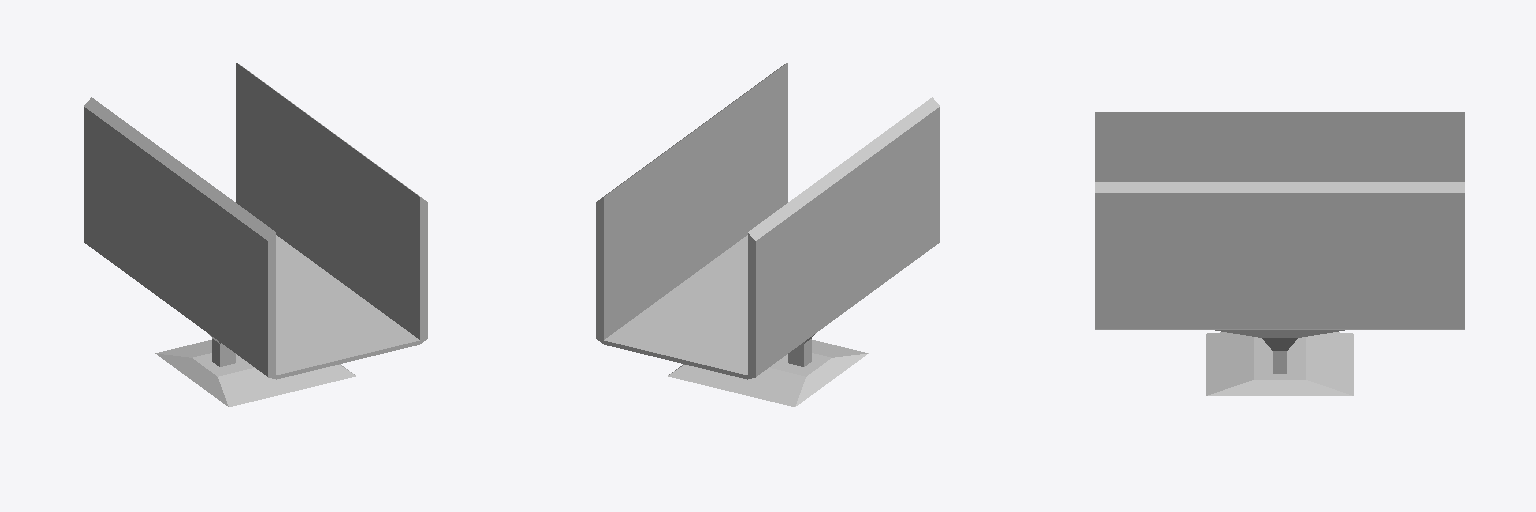
File: RoomCorridor.obj
3 views of the same model, side by side, from view 1: azimuth 30°, elevation 25°; view 2: azimuth 150°, elevation 25°; view 3: azimuth 270°, elevation 25° (orthographic).
Parts seen in each view (by area): view 1: Corridor; view 2: Corridor; view 3: Corridor.
Part boxes in pixels (x1,y1,x2,y2): Corridor: (84,63,427,406); Corridor: (596,63,939,406); Corridor: (1095,112,1464,395).
Bounding box in the file's own units: 5 × 6.5 × 10.